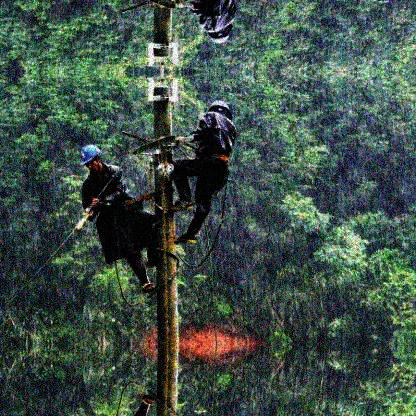helmet: (79, 144, 101, 173), (208, 101, 233, 120)
